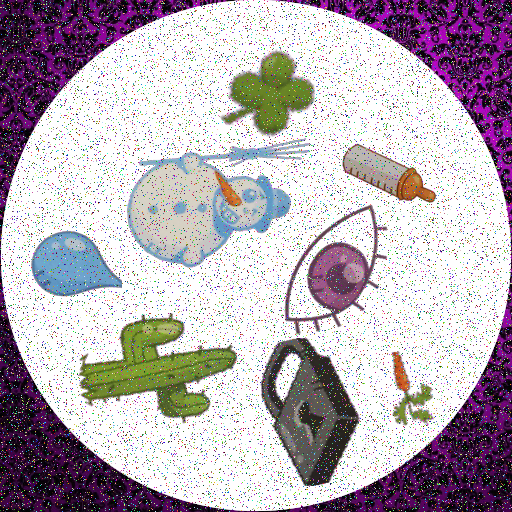bottle_icon: (337, 125, 441, 229)
cactus_icon: (70, 282, 239, 451)
carrot_icon: (362, 351, 444, 433)
cloverleaf_icon: (212, 38, 315, 141)
eye_icon: (262, 196, 409, 343)
lock_icon: (232, 338, 380, 486)
raindrop_icon: (29, 222, 122, 315)
snowman_icon: (122, 91, 315, 284)
